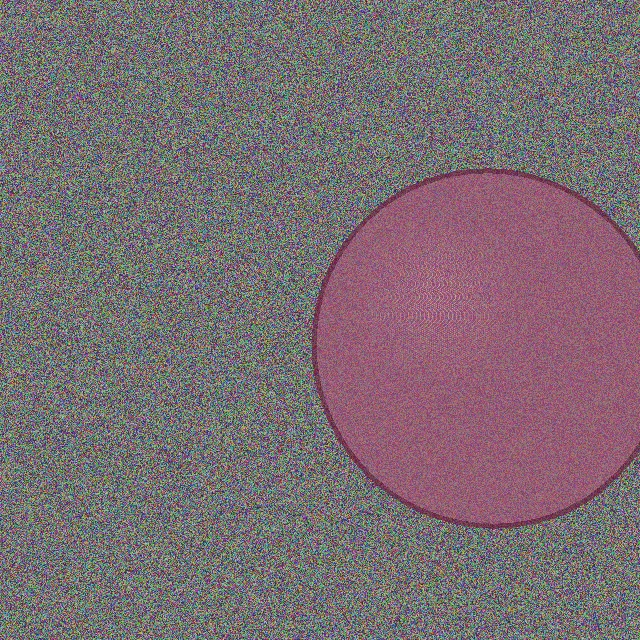lens: (315, 171, 640, 525)
